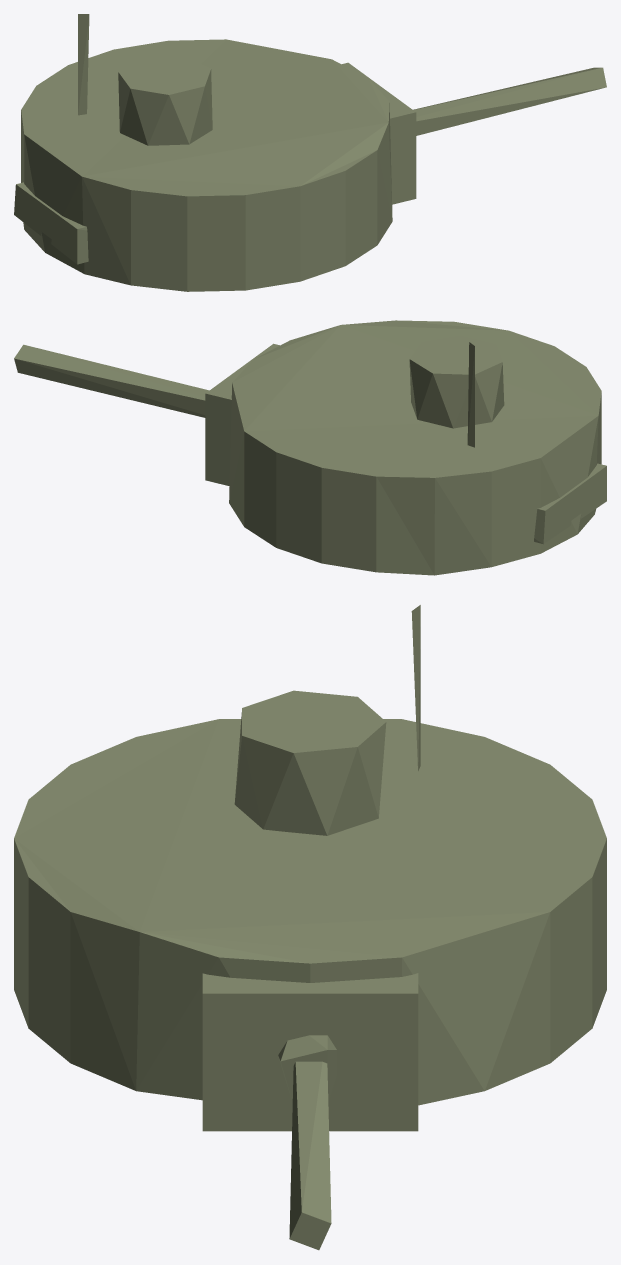
Rendered from sherman_turret.lod2.glb.
3 renders of one model, top to bottom at view 1: azimuth 30°, elevation 25°; view 2: azimuth 150°, elevation 25°; view 3: azimuth 270°, elevation 25°, orthographic. The views are drawn at different scales.
Size of the model in its own units: 2.95 by 1.05 by 1.72.
